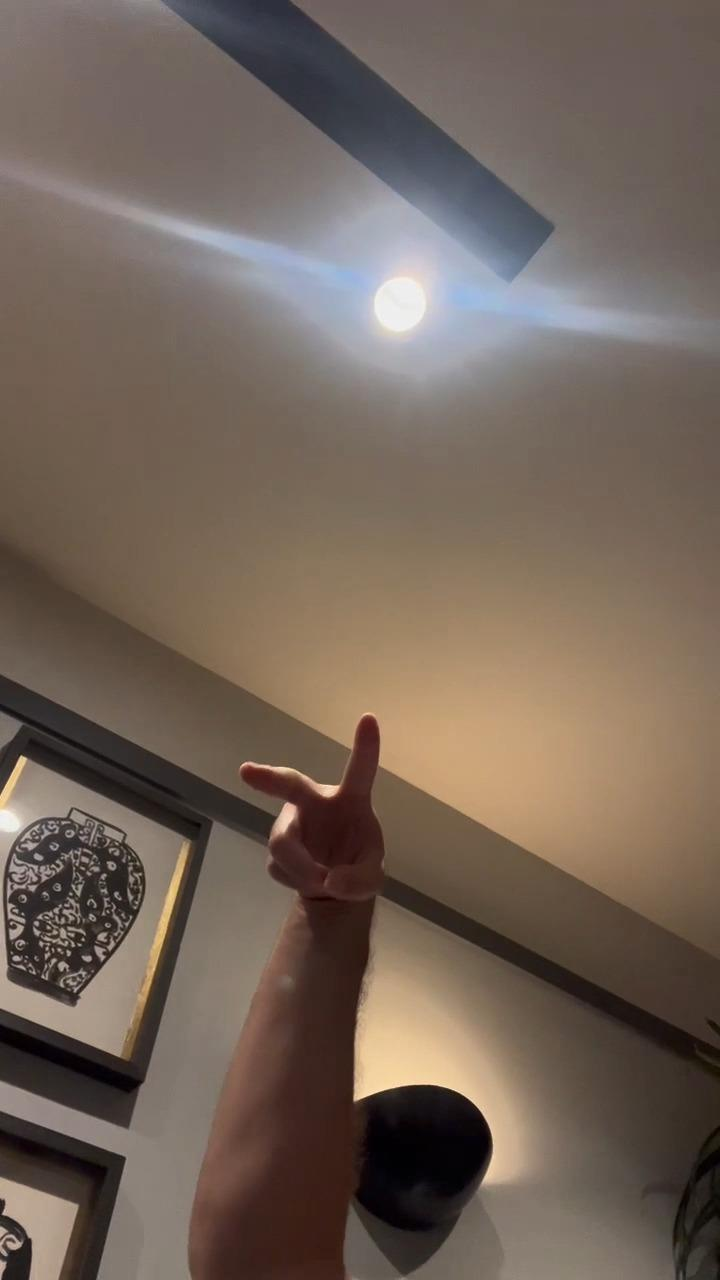Scissors: (236, 706, 391, 915)
